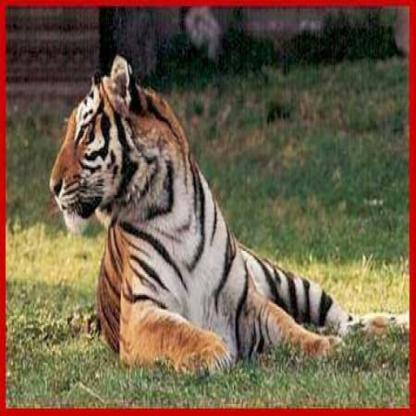Tiger: (43, 48, 366, 385)
